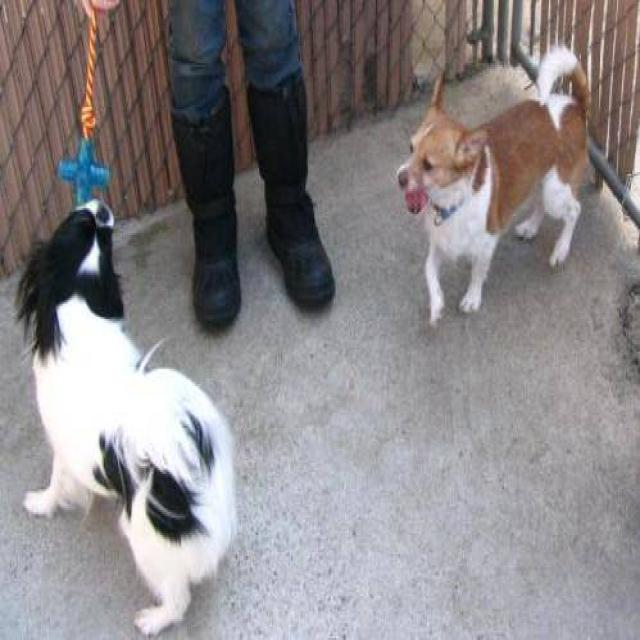dog: (13, 197, 237, 636), (395, 42, 591, 325)
